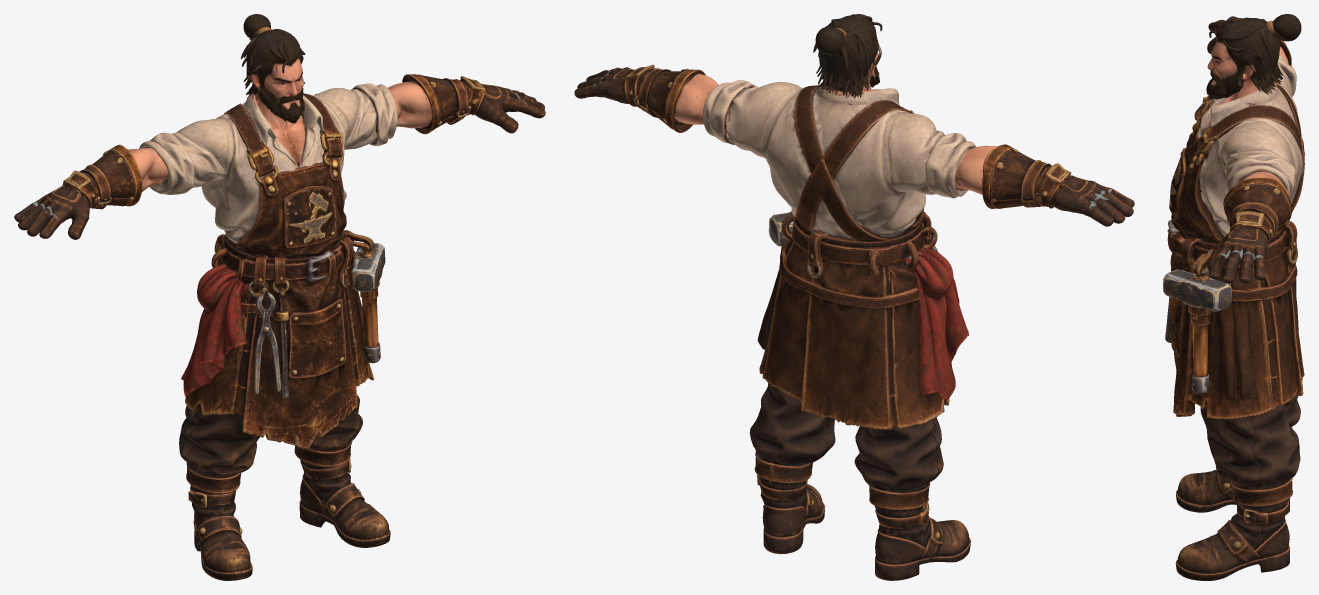
The model's file is Forgewarden_Mixamo_Decimated.fbx.
The picture shows the model from 3 angles, left to right: view 1: azimuth 30°, elevation 25°; view 2: azimuth 150°, elevation 25°; view 3: azimuth 270°, elevation 25°; orthographic projection. The views are drawn at different scales.
Visible parts, largest first — view 1: Mesh_0; view 2: Mesh_0; view 3: Mesh_0.
Part boxes in pixels (x1,y1,x2,y2): Mesh_0: (14, 14, 545, 580); Mesh_0: (574, 14, 1134, 580); Mesh_0: (1163, 14, 1304, 580).
Size of the model in its own units: 190 by 179 by 44.14.
Materials: 1 (1 with a texture image).
